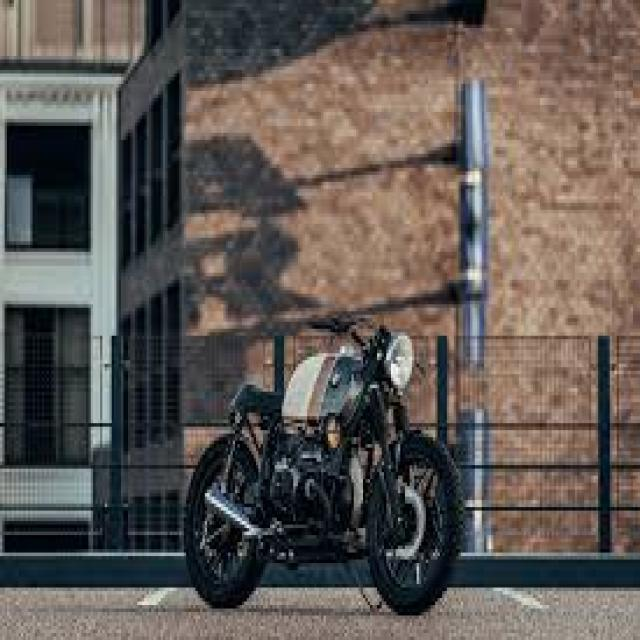Bike: (182, 311, 467, 617)
